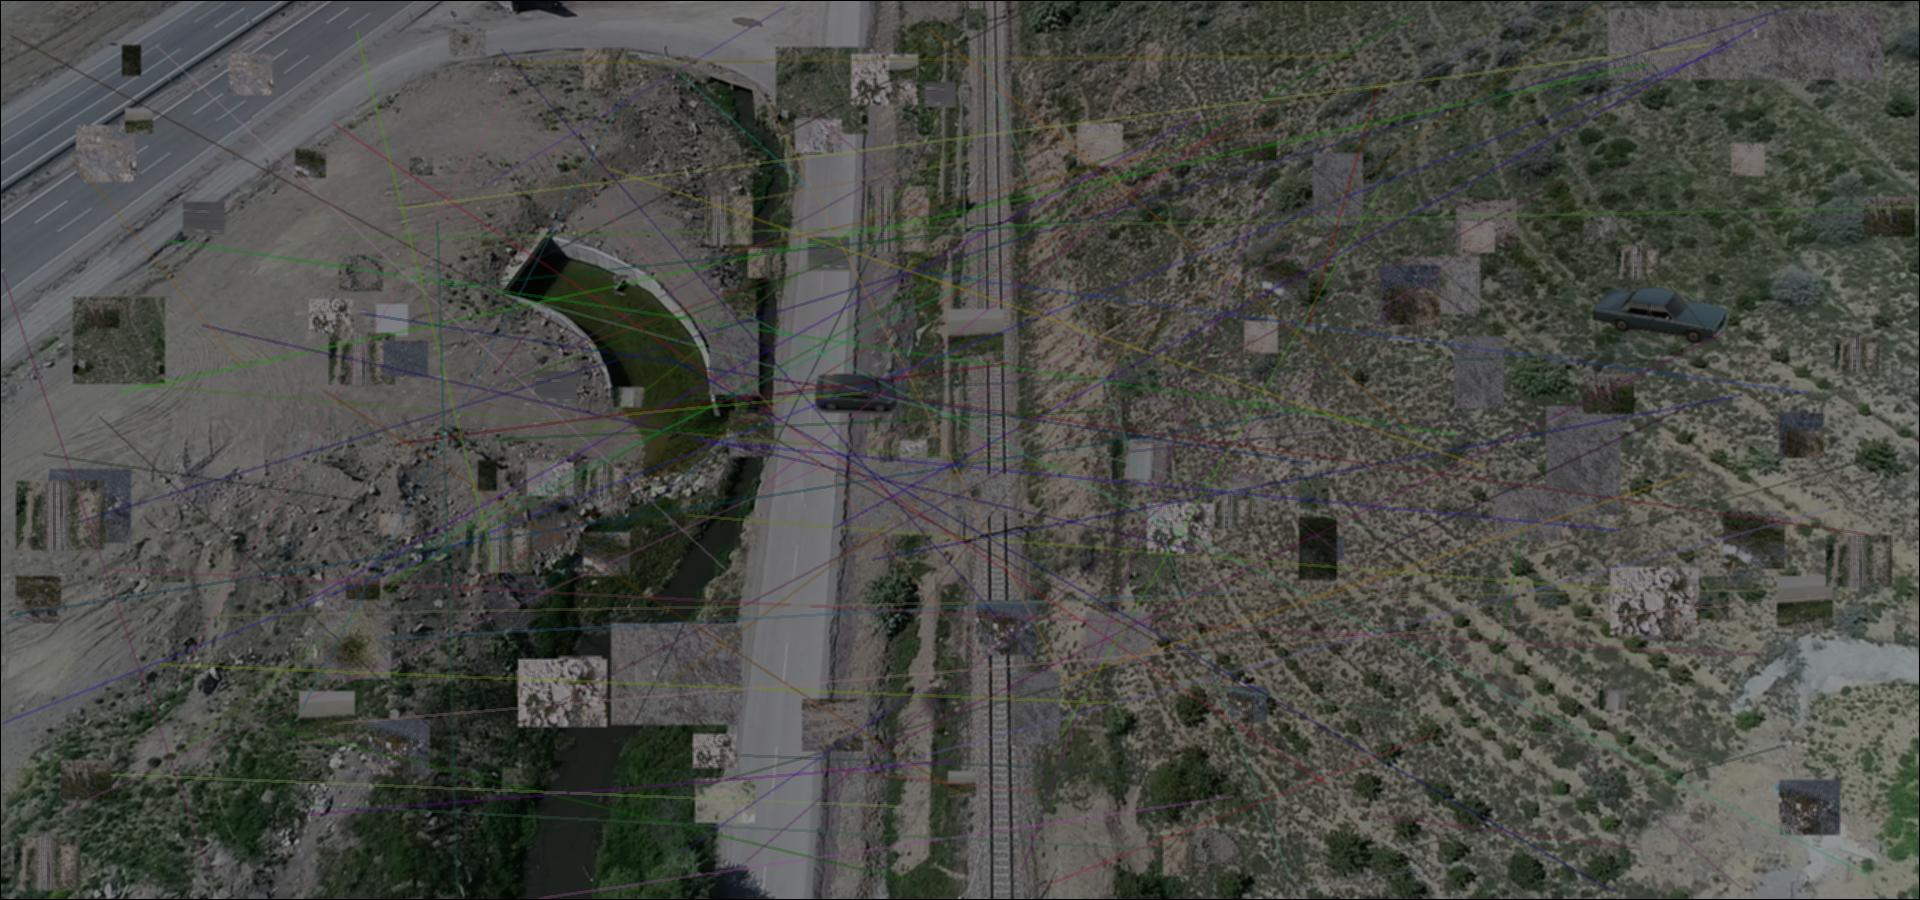arac: (1593, 287, 1730, 343), (814, 373, 901, 416)
